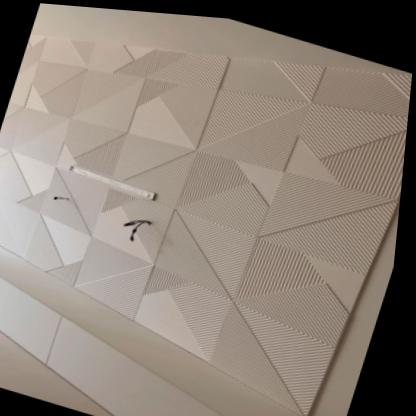Wall Panel: (0, 33, 413, 411)
